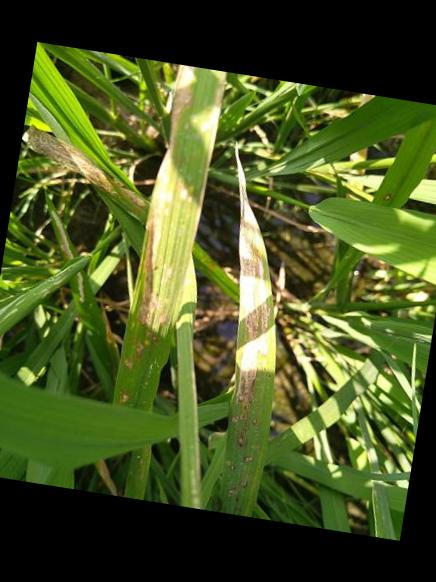Leaf Streak: (120, 64, 194, 370), (231, 148, 273, 447), (178, 70, 224, 294), (21, 124, 110, 191), (119, 186, 143, 206), (111, 380, 129, 405), (219, 483, 237, 500), (178, 185, 188, 201), (241, 455, 251, 462), (238, 479, 246, 487), (251, 418, 256, 424), (228, 465, 234, 470)
